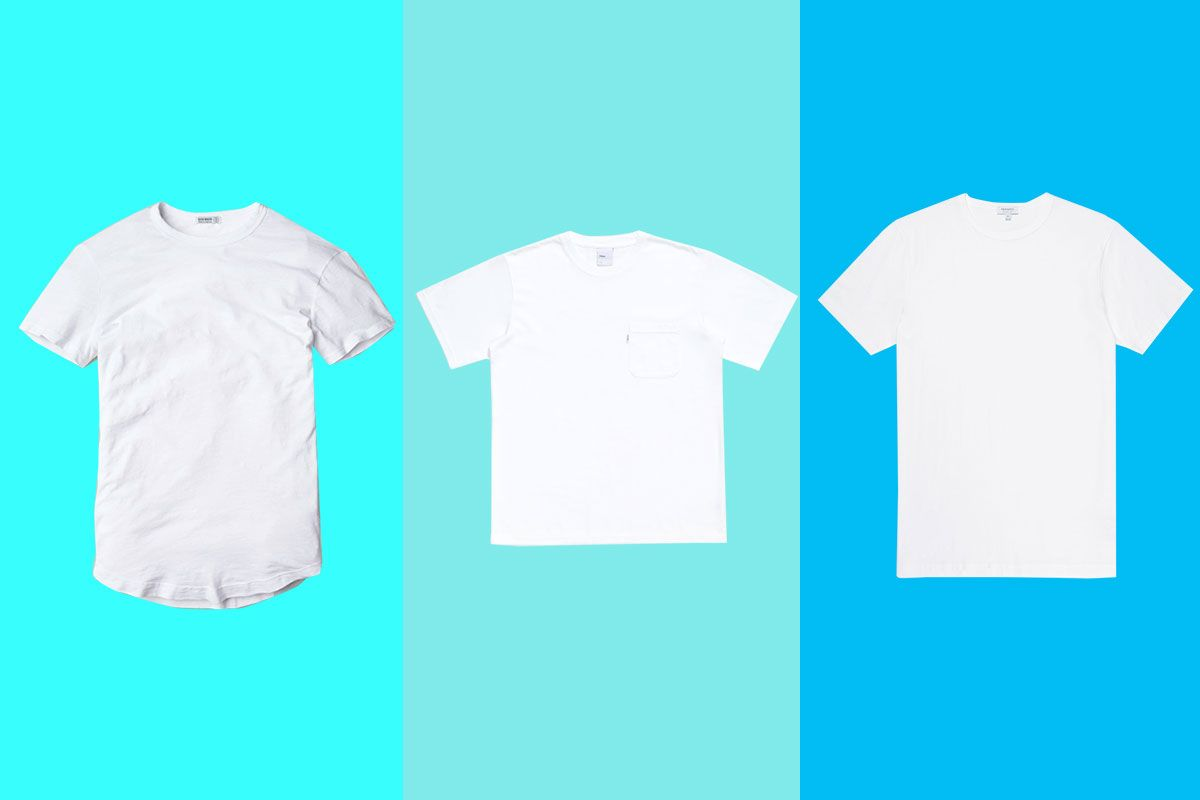round-necked tshirt: (17, 197, 422, 613), (824, 192, 1193, 580), (418, 232, 790, 548)
